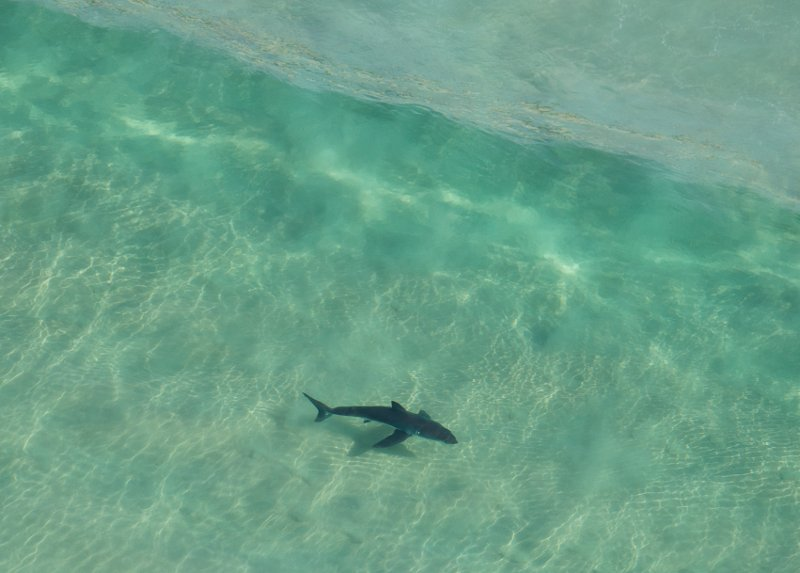shark: (297, 389, 459, 454)
